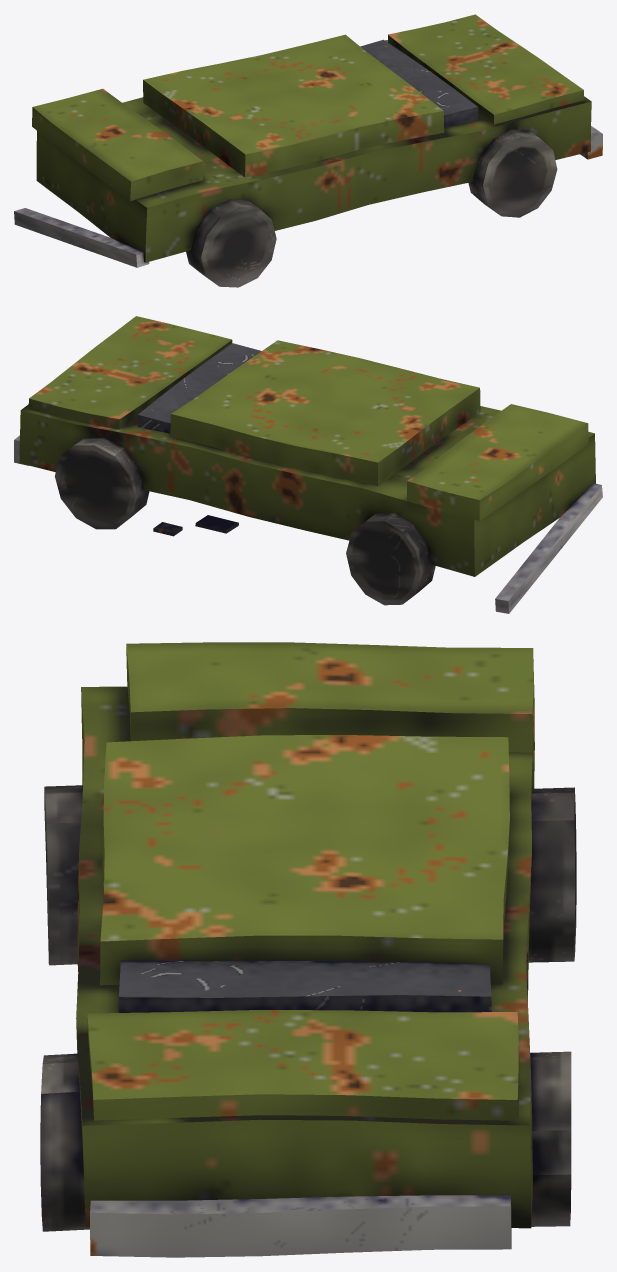
Rendered from CrushedCar.glb.
3 views of the same model, one above another, from view 1: azimuth 30°, elevation 25°; view 2: azimuth 150°, elevation 25°; view 3: azimuth 270°, elevation 25° (orthographic). The views are drawn at different scales.
Visible parts, largest first — view 1: Body, Wheels, Bumpers, Glass; view 2: Body, Wheels, Glass, Bumpers; view 3: Body, Wheels, Bumpers, Glass.
Boxes of the visible parts, box(x1,y1,x2,y2) form: Body: box(32, 14, 591, 262); Wheels: box(186, 40, 557, 287); Bumpers: box(14, 126, 602, 267); Glass: box(360, 39, 478, 127); Body: box(19, 316, 595, 576); Wheels: box(54, 437, 435, 605); Glass: box(138, 343, 261, 536); Bumpers: box(14, 435, 602, 613); Body: box(76, 642, 534, 1228); Wheels: box(40, 785, 576, 1231); Bumpers: box(90, 1195, 511, 1257); Glass: box(118, 960, 491, 1012).
Bounding box in the file's own units: 4.8 × 1.15 × 2.31.
4 materials, 4 textured.
